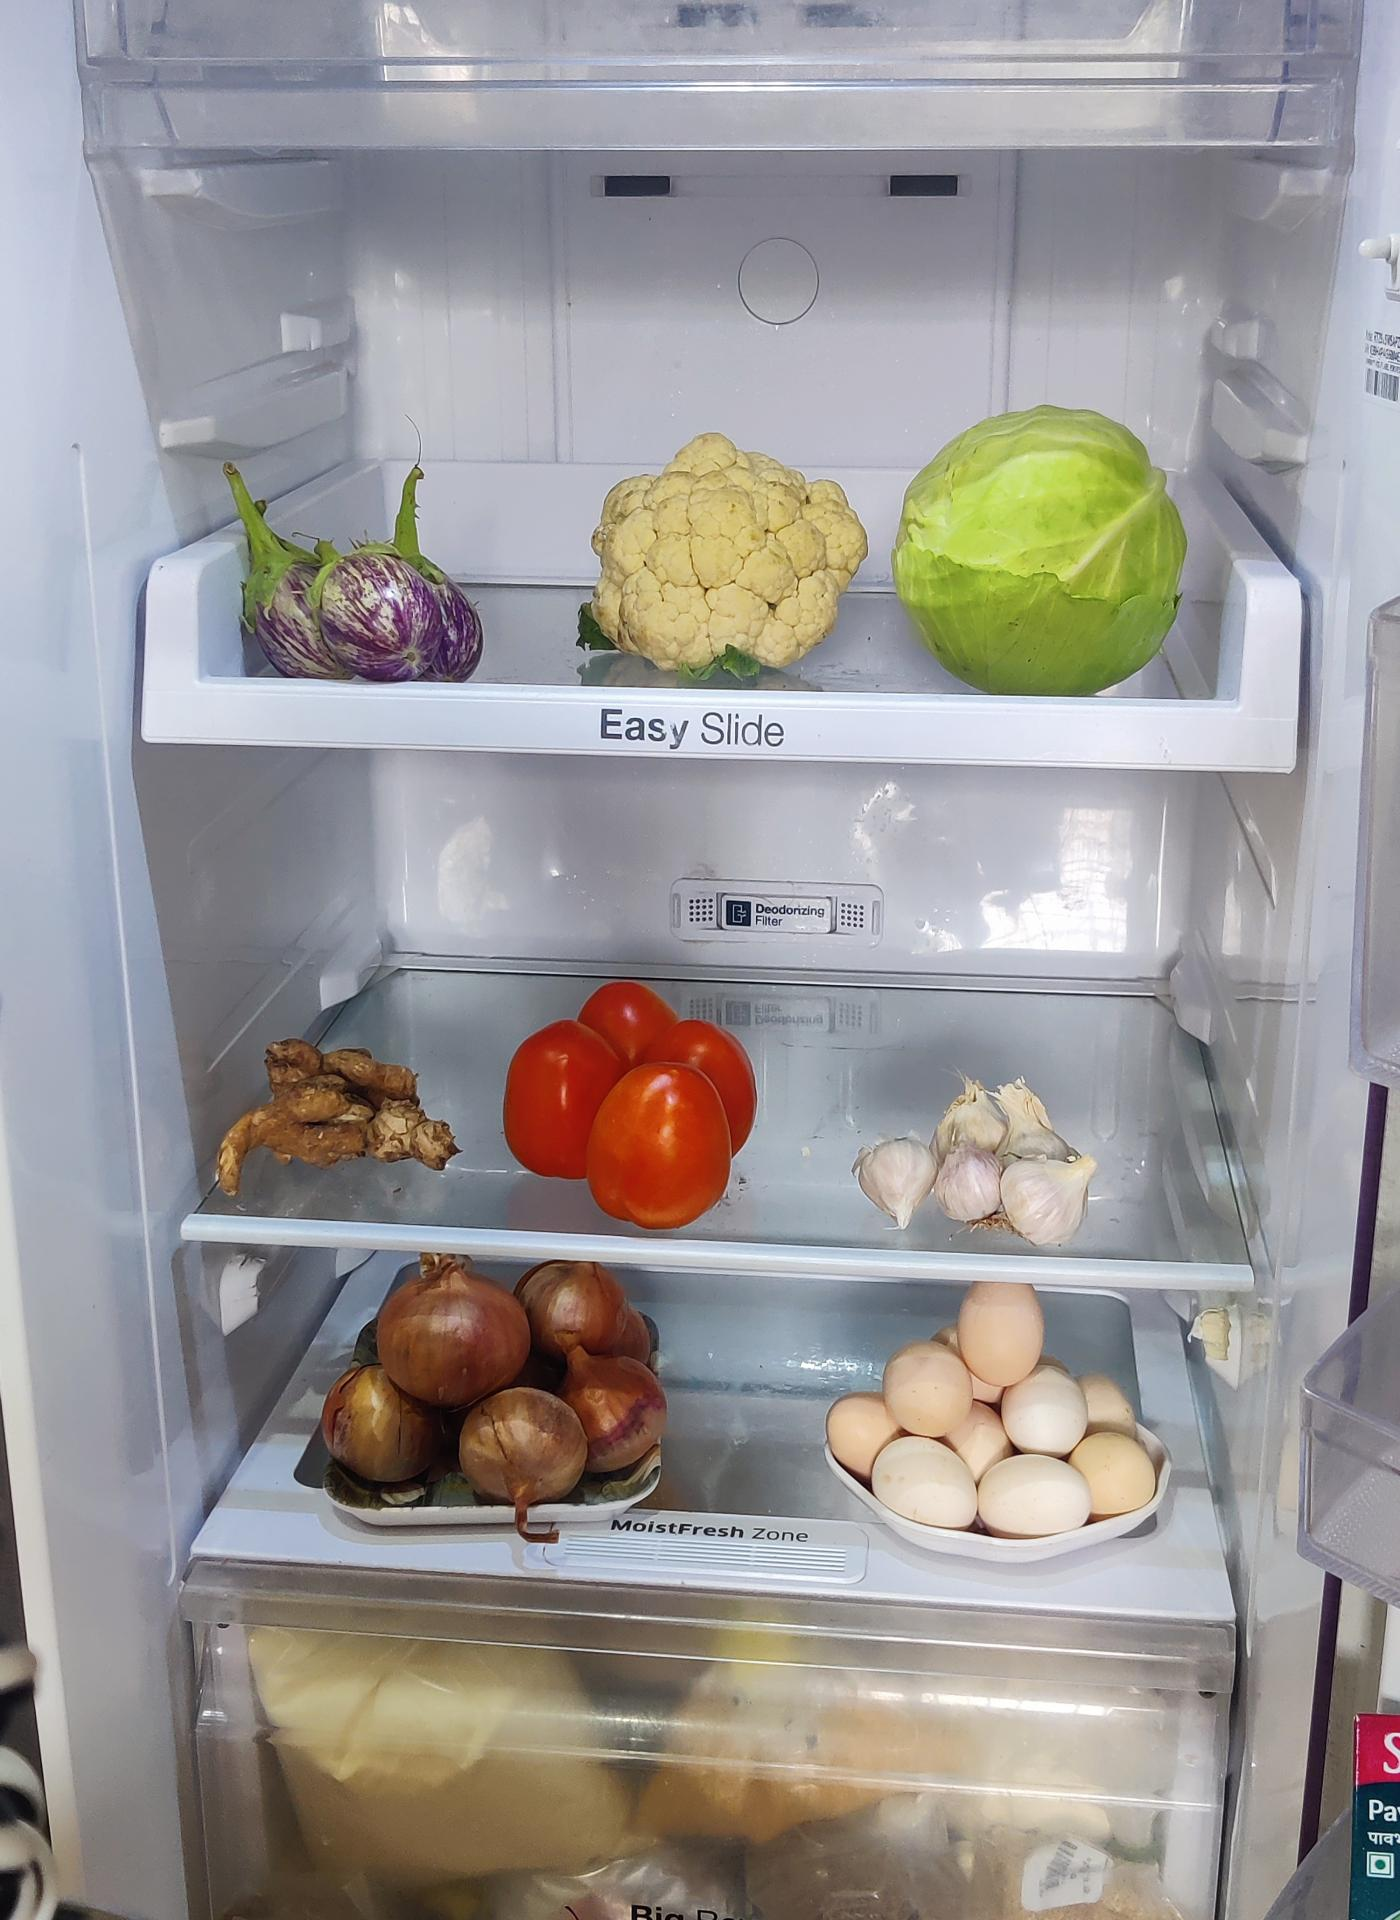brinjal: (225, 471, 479, 672)
cabbage: (895, 411, 1188, 704)
cauliflower: (593, 438, 875, 680)
egg: (820, 1276, 1161, 1525)
garlic: (857, 1076, 1094, 1252)
ginger: (207, 1038, 462, 1181)
onion: (321, 1252, 669, 1501)
tomato: (502, 970, 760, 1216)
